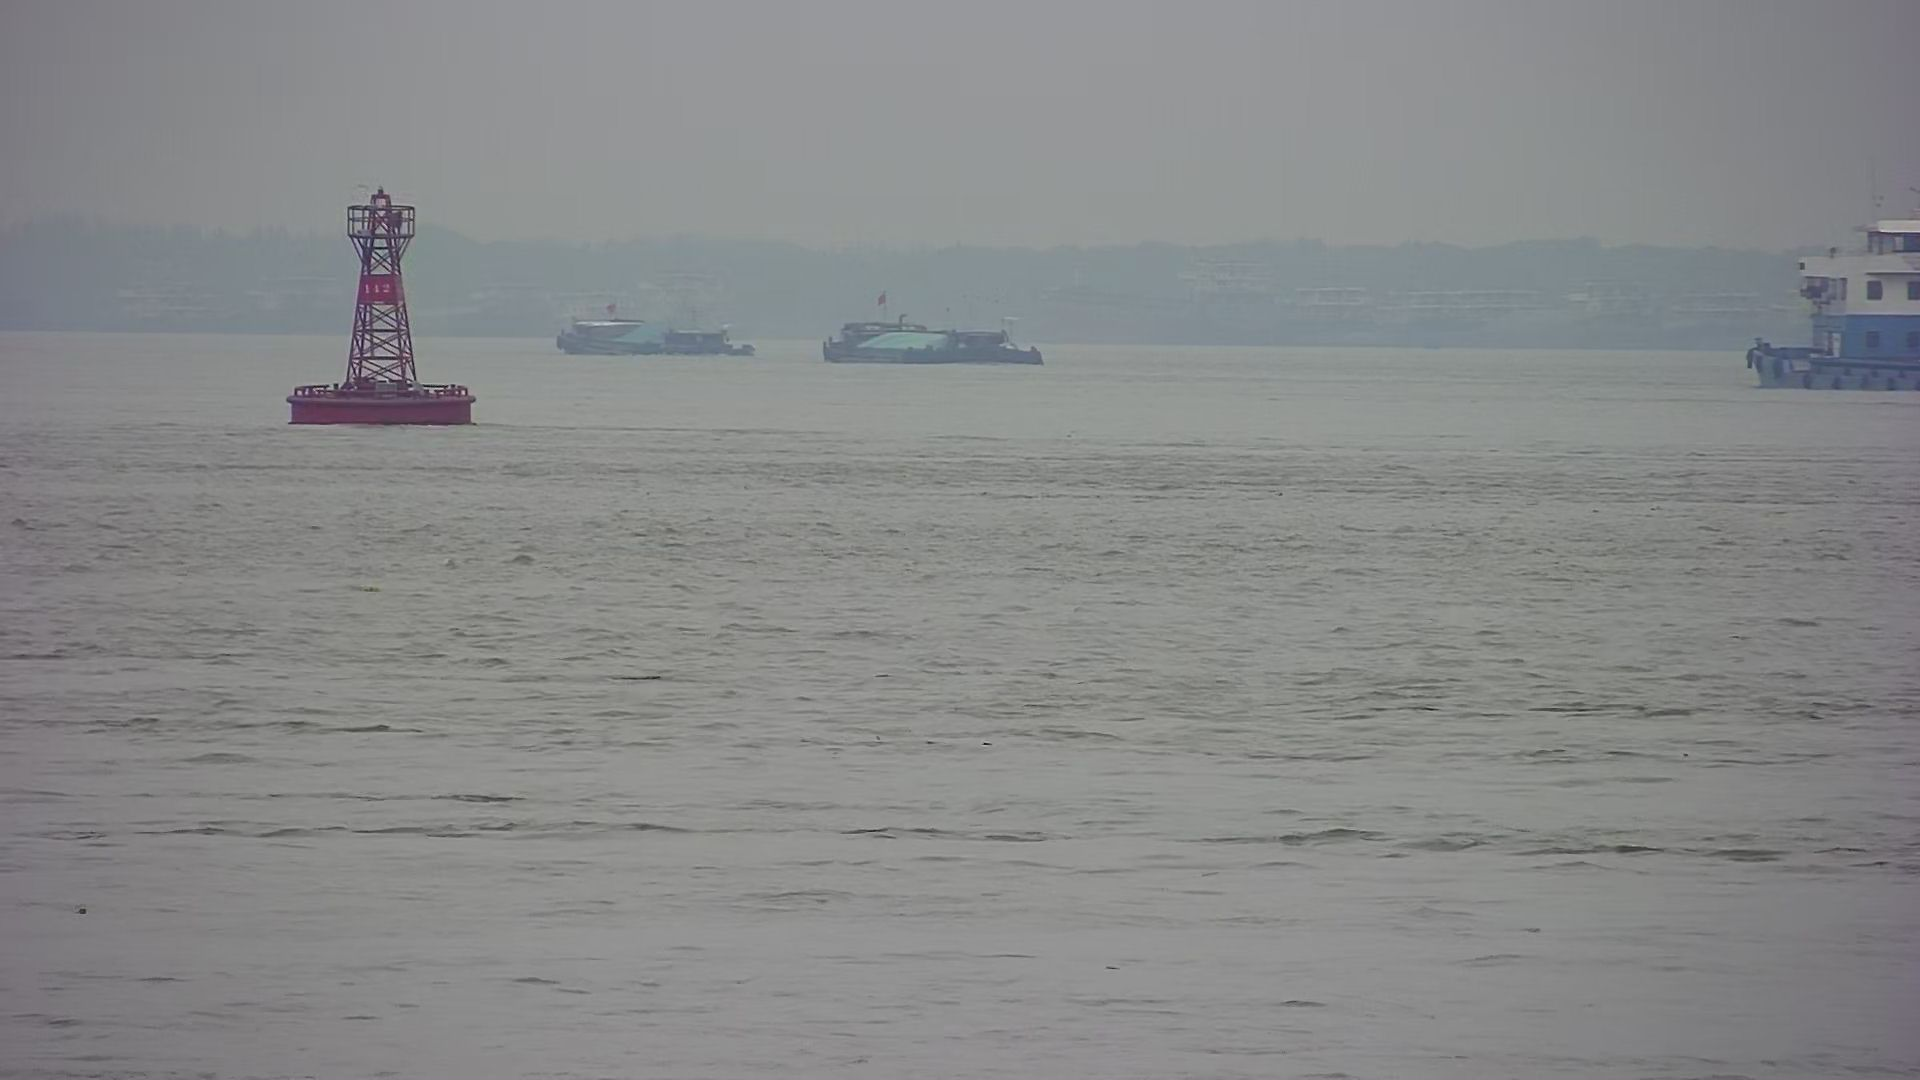platform: (280, 178, 481, 431)
ship: (1731, 199, 1920, 393), (818, 320, 1046, 368), (553, 315, 758, 363)
